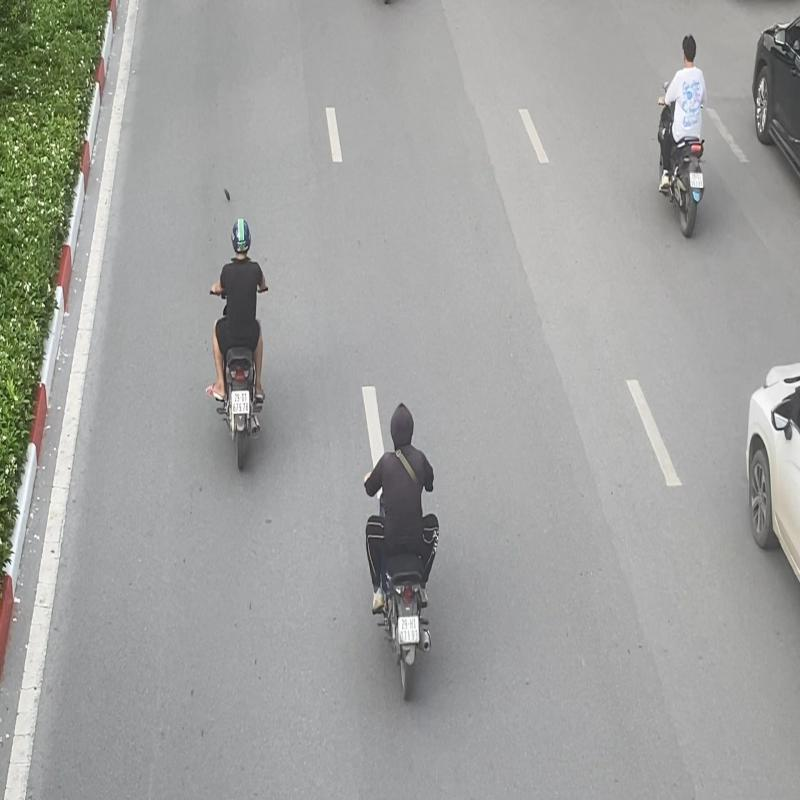helmet: (232, 220, 252, 254)
licenseplate: (232, 389, 249, 414), (690, 172, 704, 189)
motorcyclist: (206, 219, 271, 472), (657, 34, 711, 242)
nohelmet: (682, 34, 698, 62)
